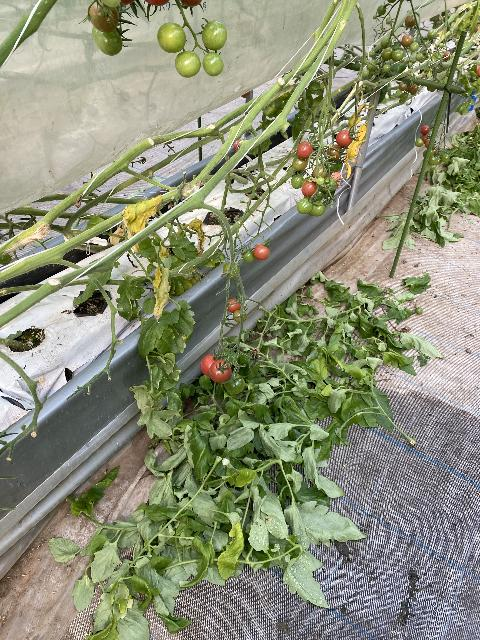l_fully_ripened: (209, 359, 231, 383), (201, 354, 221, 377), (296, 141, 313, 159), (336, 130, 353, 147), (302, 180, 317, 197), (227, 299, 241, 313), (420, 125, 430, 135), (419, 135, 428, 144)
l_green: (92, 26, 123, 56), (157, 22, 186, 53), (202, 20, 227, 51), (175, 50, 201, 79), (202, 52, 224, 77), (223, 372, 245, 394), (223, 262, 240, 279), (292, 155, 308, 171), (297, 198, 313, 214), (218, 352, 233, 368), (321, 176, 336, 192), (311, 201, 325, 217), (242, 250, 256, 263), (291, 175, 304, 189), (233, 310, 246, 323), (391, 49, 404, 62), (382, 47, 394, 61), (101, 0, 121, 8), (325, 160, 336, 174), (381, 37, 392, 49), (333, 159, 343, 172), (377, 5, 386, 16), (427, 29, 436, 40), (410, 42, 419, 52), (428, 155, 438, 164), (316, 177, 325, 186), (415, 138, 424, 147), (442, 154, 450, 163)
l_half_ripened: (88, 0, 119, 32), (253, 244, 270, 260), (327, 144, 342, 160), (313, 164, 327, 179), (401, 34, 412, 47), (405, 14, 416, 27)
